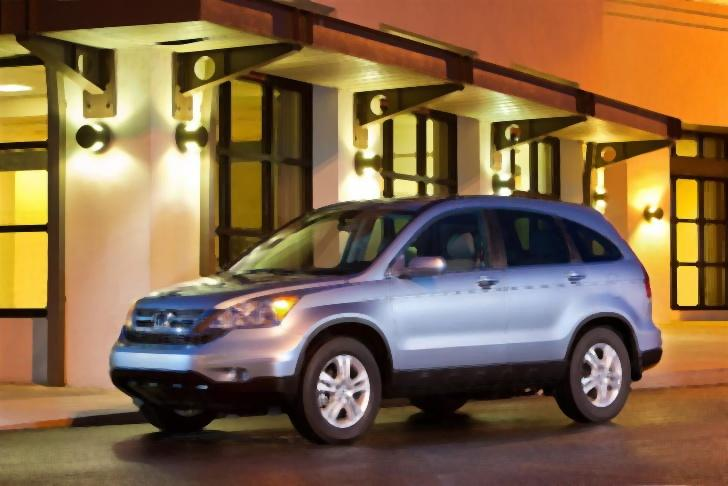Car hood: (138, 269, 358, 294)
Fender - -F-L-: (284, 280, 404, 403)
Fender - -R-L-: (594, 248, 659, 323)
Front bumper: (106, 339, 301, 421)
Headlight - -L-: (205, 290, 309, 336)
Headlight - -R-: (119, 294, 143, 335)
Passenger-s door - -F-L-: (404, 193, 503, 369)
Passenger-s door - -R-L-: (503, 195, 589, 369)
Rear bumper: (632, 314, 670, 368)
Rear light - -L-: (635, 261, 668, 300)
Side bumper - -L-: (390, 355, 566, 396)
Side mirror - -L-: (396, 248, 451, 288)
